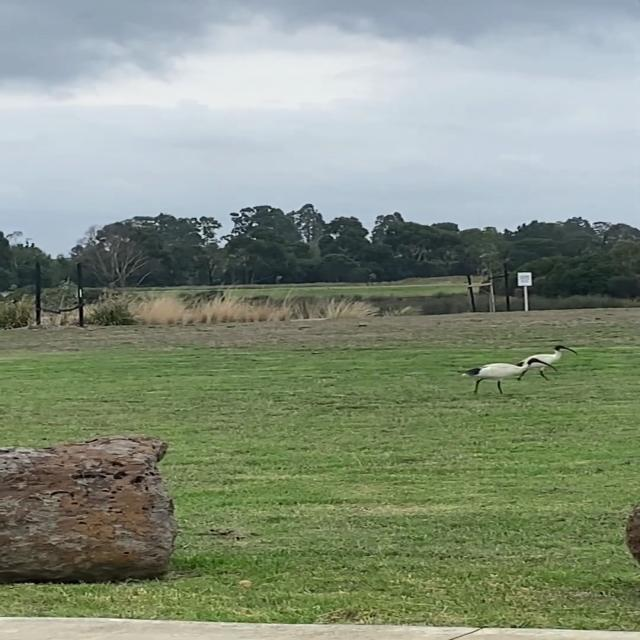Birds-Ibis: (456, 354, 558, 396), (517, 342, 578, 382)
